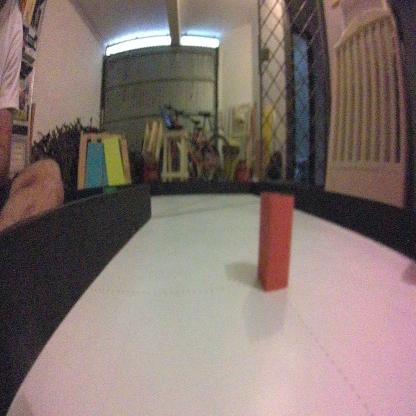red: (253, 191, 294, 290)
